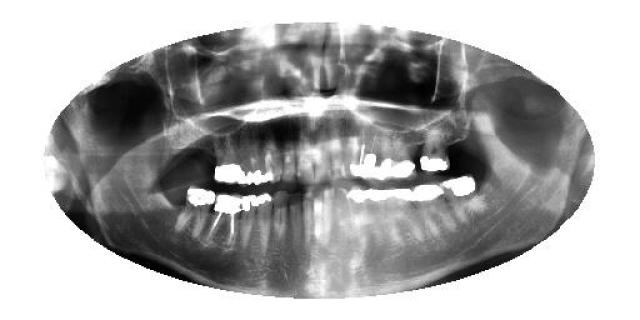Fillings: (414, 184, 456, 240), (171, 185, 214, 237), (208, 130, 244, 189), (390, 185, 421, 251), (444, 176, 486, 222), (362, 124, 388, 182), (419, 126, 450, 174), (388, 128, 413, 182), (245, 132, 269, 188), (345, 185, 371, 233), (238, 194, 258, 255), (338, 128, 362, 178), (369, 188, 390, 244), (256, 191, 272, 259)
Implant: (211, 192, 240, 248)
